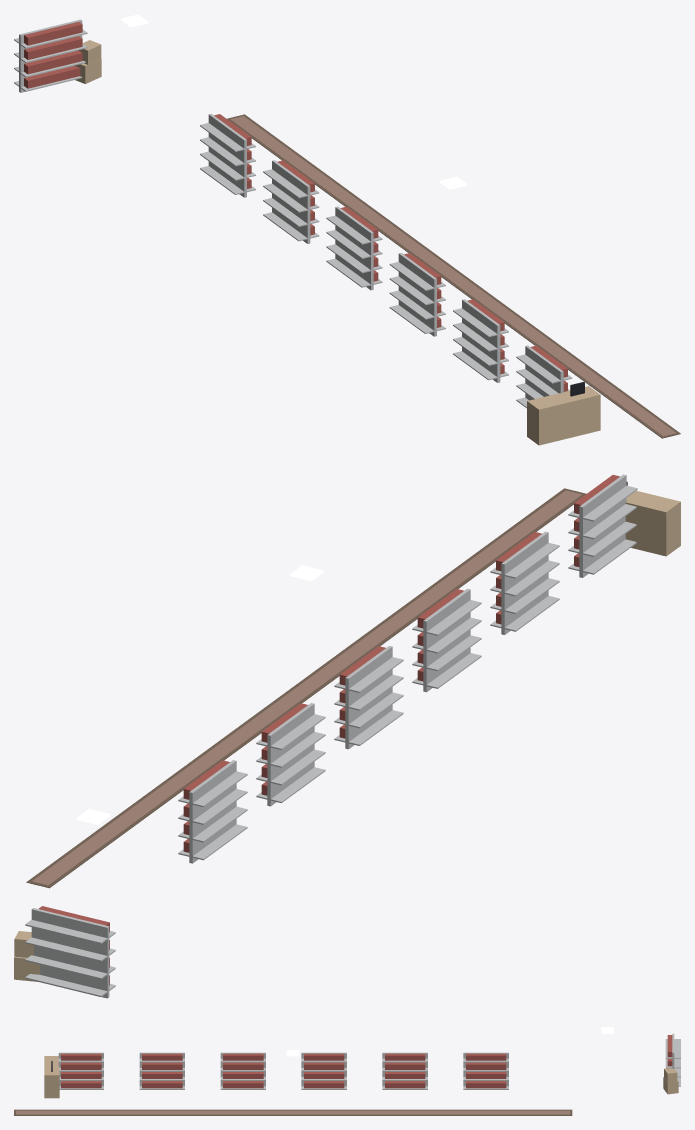
The model's file is fine-s0.glb.
3 views of the same model, one above another, from view 1: azimuth 30°, elevation 25°; view 2: azimuth 150°, elevation 25°; view 3: azimuth 270°, elevation 25° (orthographic). The views are drawn at different scales.
Visible parts, largest first — view 1: soft-s0, shelving.000, shop-counter.000, shelf.002, shelf.003, shelf.000, shelf.001, shelf.004, shelf.005, cardboard-box.000; view 2: soft-s0, shelving.000, shelf.001, shelf.000, shelf.002, shelf.003, shelf.004, shelf.005, shop-counter.000, cardboard-box.000; view 3: soft-s0, shelf.000, shelf.001, shelf.002, shelf.003, shelf.004, shelf.005, shop-counter.000, shelving.000, cardboard-box.000.
Boxes of the visible parts, box(x1,y1,x2,y2) form: soft-s0: box(227, 114, 680, 438); shelving.000: box(14, 19, 87, 92); shop-counter.000: box(527, 382, 600, 445); shelf.002: box(326, 206, 382, 290); shelf.003: box(389, 253, 445, 336); shelf.000: box(200, 114, 255, 197); shelf.001: box(263, 160, 319, 243); shelf.004: box(453, 299, 508, 382); shelf.005: box(516, 345, 572, 408); cardboard-box.000: box(74, 40, 101, 83); soft-s0: box(26, 488, 586, 888); shelving.000: box(25, 906, 115, 998); shelf.001: box(256, 703, 325, 806); shelf.000: box(178, 760, 247, 863); shelf.002: box(334, 646, 403, 749); shelf.003: box(412, 588, 481, 692); shelf.004: box(490, 531, 559, 634); shelf.005: box(568, 474, 637, 577); shop-counter.000: box(625, 482, 680, 556); cardboard-box.000: box(14, 931, 40, 981); soft-s0: box(14, 1109, 572, 1115); shelf.000: box(463, 1052, 508, 1089); shelf.001: box(382, 1052, 427, 1089); shelf.002: box(301, 1052, 346, 1089); shelf.003: box(220, 1052, 265, 1089); shelf.004: box(139, 1052, 184, 1089); shelf.005: box(58, 1052, 103, 1089); shop-counter.000: box(44, 1056, 59, 1098); shelving.000: box(665, 1033, 680, 1086); cardboard-box.000: box(663, 1068, 678, 1094).
Size of the model in its own units: 4.25 by 2.64 by 26.36.
